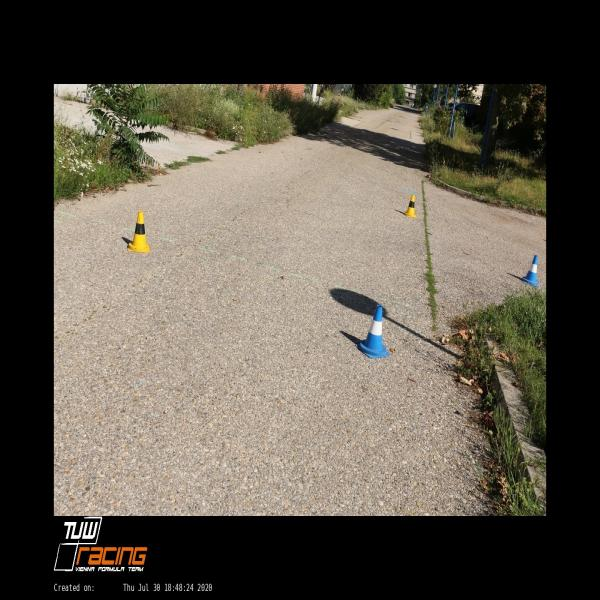blue_cone: (355, 304, 390, 360), (520, 254, 540, 286)
yellow_cone: (127, 211, 151, 253), (403, 194, 417, 218)
